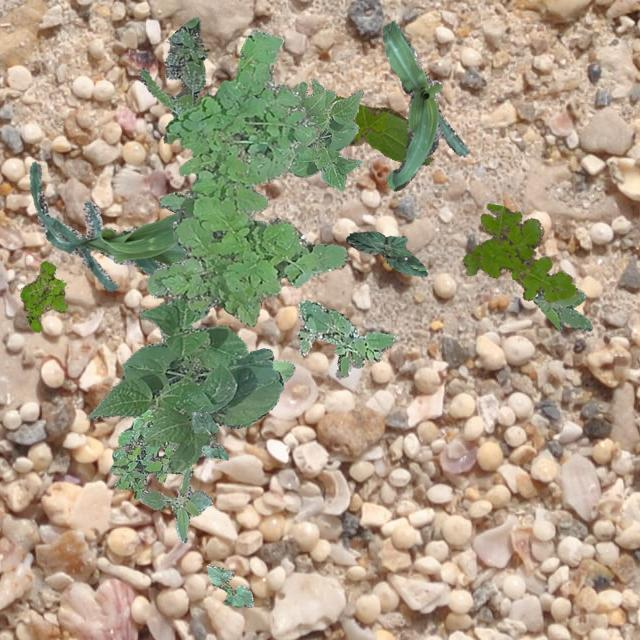crop: (86, 296, 282, 472), (28, 160, 185, 290), (382, 19, 468, 190), (286, 78, 362, 190), (328, 94, 432, 164), (346, 230, 426, 276), (205, 564, 252, 606), (190, 409, 228, 458), (271, 358, 293, 382)
weed: (146, 28, 348, 326), (462, 202, 578, 302), (136, 17, 206, 142), (109, 406, 192, 500), (296, 300, 394, 378), (138, 468, 212, 542), (19, 260, 66, 330), (532, 286, 590, 330)
